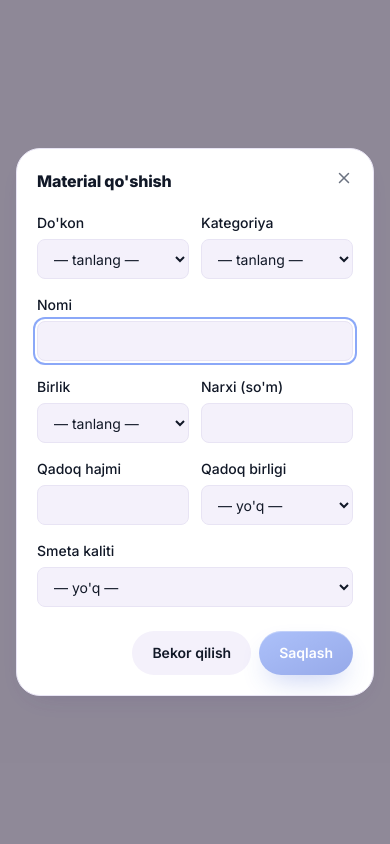
it: MaterialFormDialog backend errors › shows a string detail inside the dialog
Select "Qurilish Mart" in the dropdown labelled "Do'kon" at (113, 259), box [37,239,189,279]
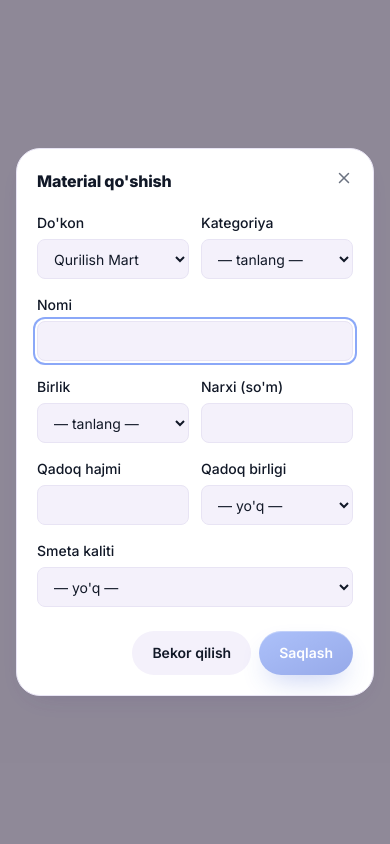
Select "Gips" in the dropdown labelled "Kategoriya" at (277, 259), box [201,239,353,279]
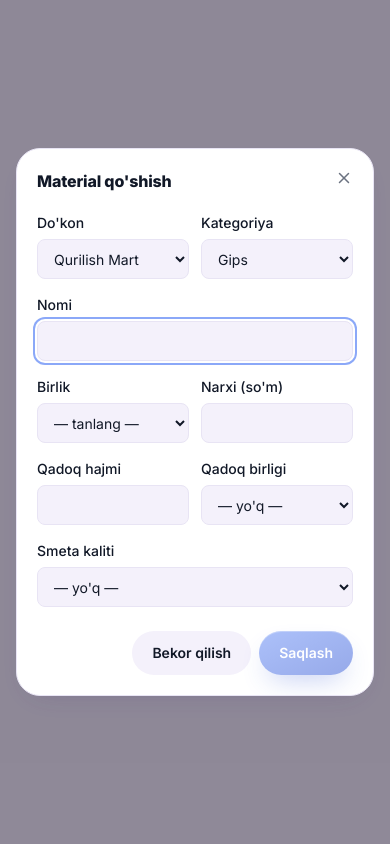
Type "  Gips suvoq " into the field labelled "Nomi" at (195, 341), box [37,321,353,361]
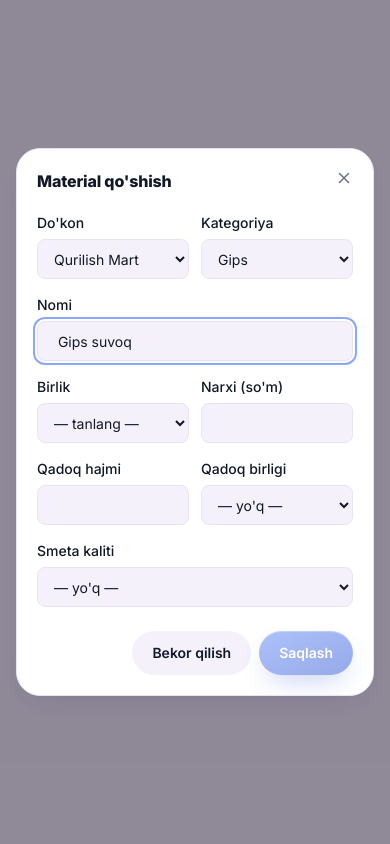
Select "qop" in the dropdown labelled "Birlik" at (113, 423), box [37,403,189,443]
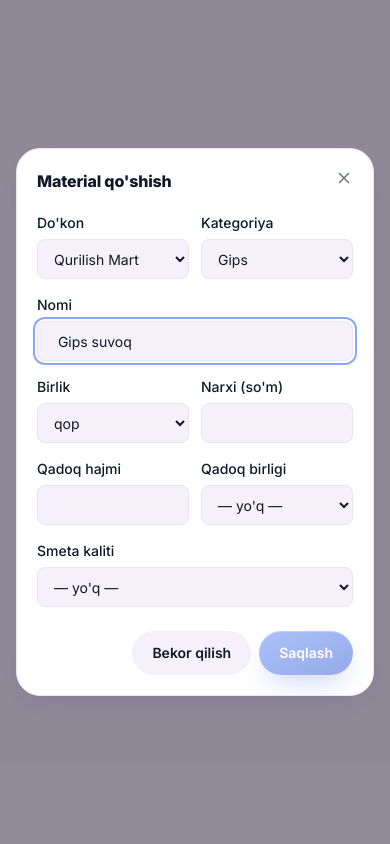
Type "125000" into the number field labelled "Narxi (so'm)" at (277, 423), box [201,403,353,443]
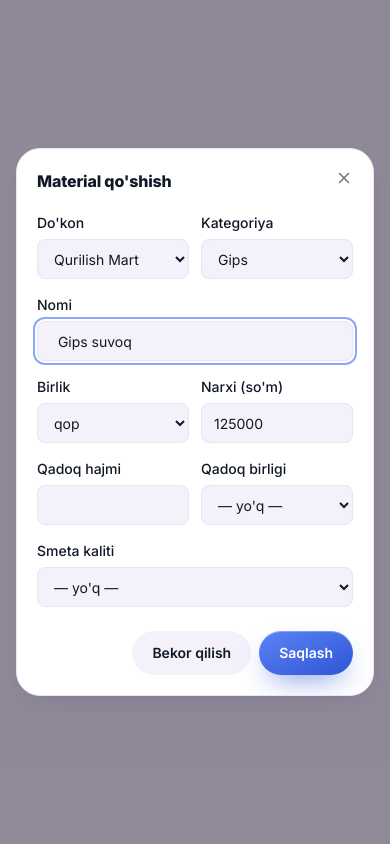
Click the button "Saqlash" at (306, 653), box [259,631,353,675]
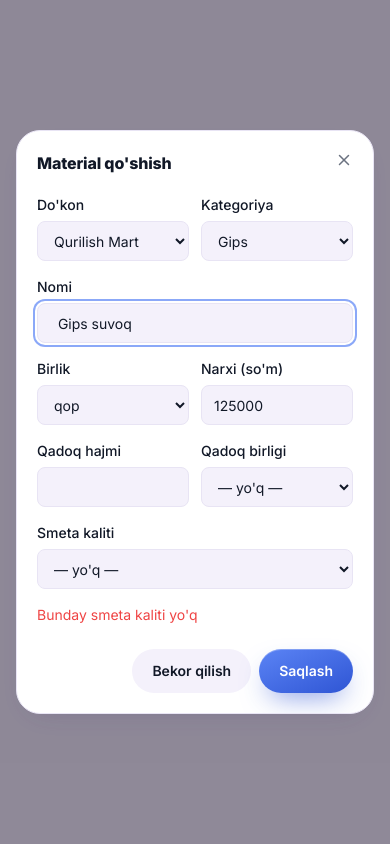
Now the text "Bunday smeta kaliti yo'q" is shown, box [37,606,198,623]
